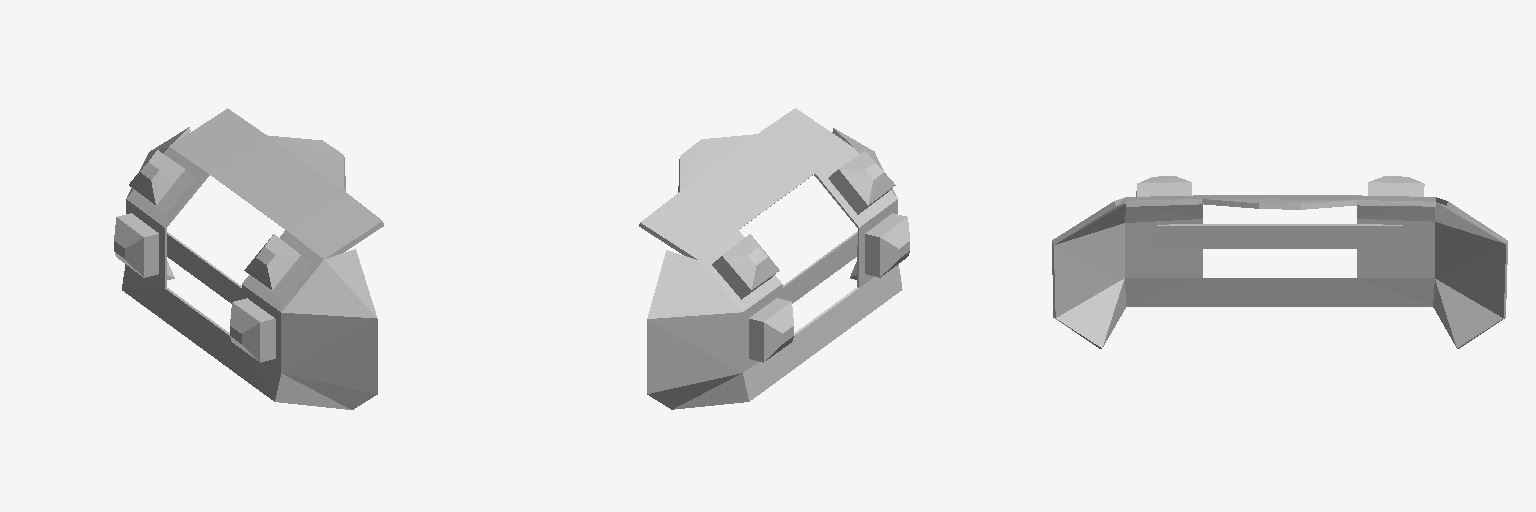
The model's file is Bronya 3.obj.
3 views of the same model, side by side, from view 1: azimuth 30°, elevation 25°; view 2: azimuth 150°, elevation 25°; view 3: azimuth 270°, elevation 25° (orthographic).
Visible parts, largest first — view 1: Bronya_3; view 2: Bronya_3; view 3: Bronya_3.
Part boxes in pixels (left/top/right/bottom): Bronya_3: left=114, top=108, right=383, bottom=409; Bronya_3: left=639, top=108, right=909, bottom=409; Bronya_3: left=1052, top=176, right=1507, bottom=348.
Bounding box in the file's own units: 24.92 × 27.33 × 62.7.